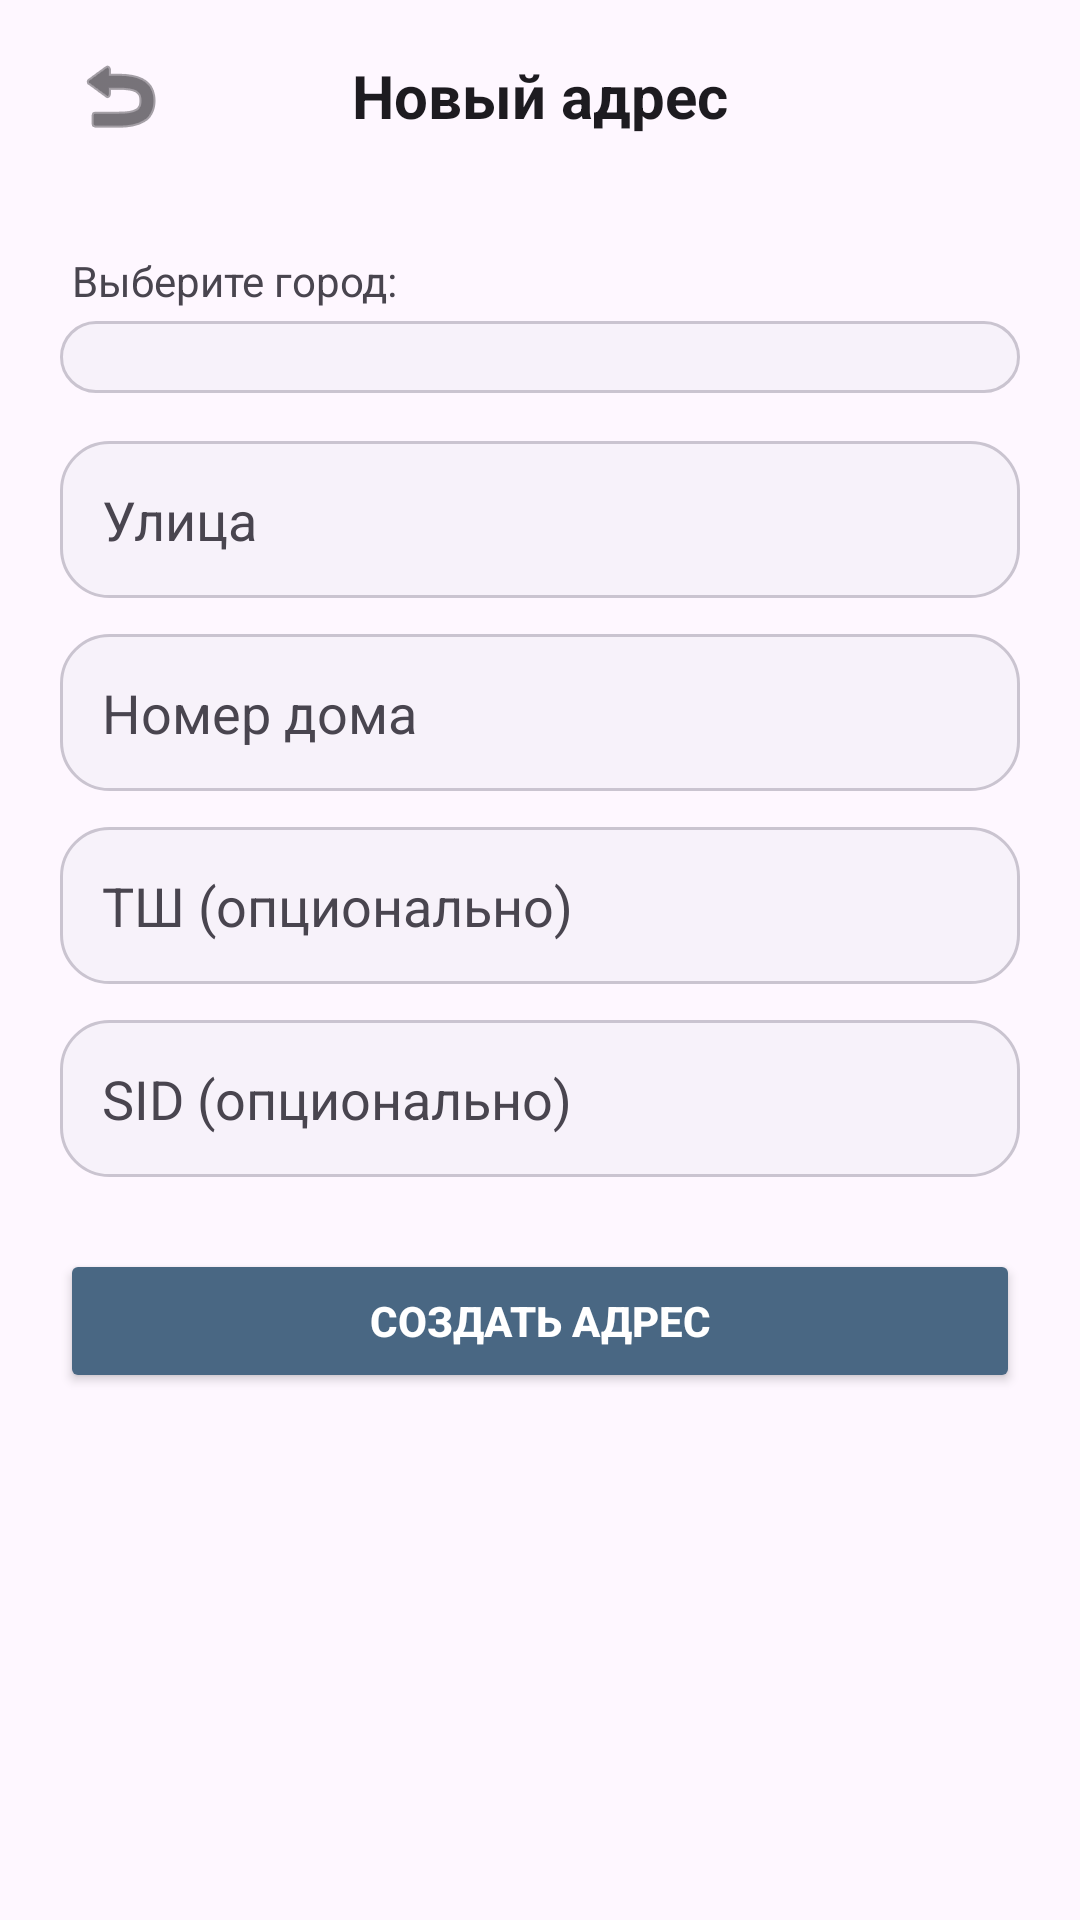

Named icons in this screenshot (1080px x 1920px) and their centers, (x=x, y=y):
revert: (x=121, y=96)
